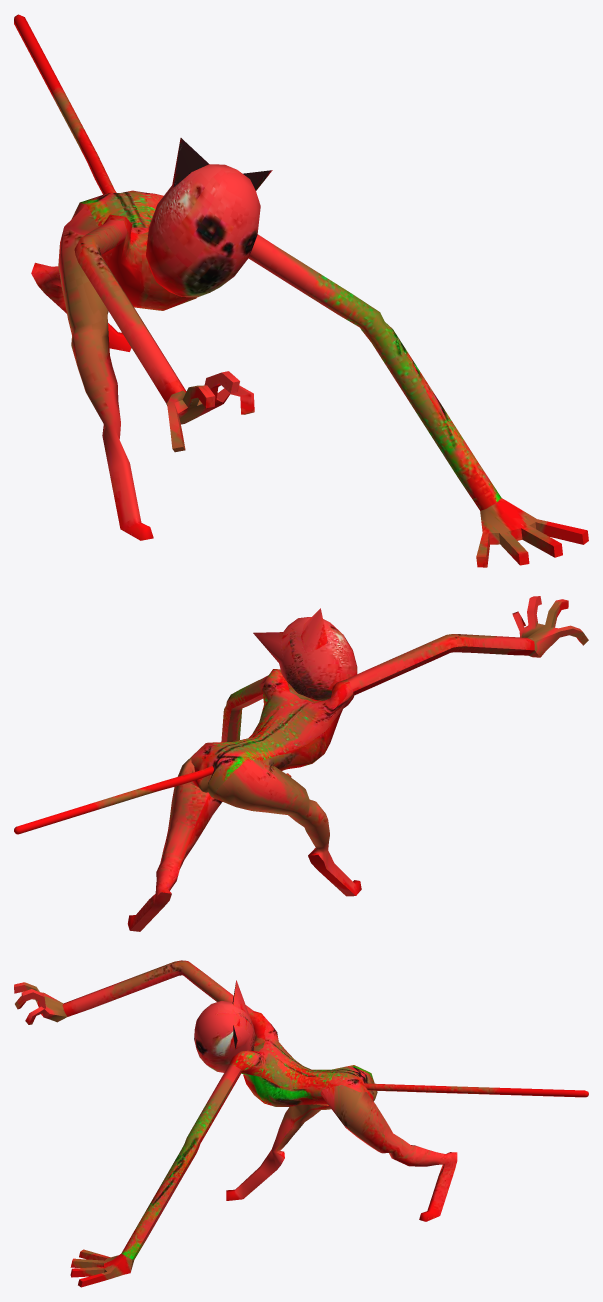
The model's file is SM_Monster_getting_out_2.fbx.
3 renders of one model, top to bottom at view 1: azimuth 30°, elevation 25°; view 2: azimuth 150°, elevation 25°; view 3: azimuth 270°, elevation 25°, orthographic. The views are drawn at different scales.
Parts seen in each view (by area): view 1: SM_Monster_getting_out_2; view 2: SM_Monster_getting_out_2; view 3: SM_Monster_getting_out_2.
Part boxes in pixels (bbox=[...]): SM_Monster_getting_out_2: bbox=[14, 14, 588, 567]; SM_Monster_getting_out_2: bbox=[14, 596, 588, 931]; SM_Monster_getting_out_2: bbox=[14, 960, 588, 1287].
Bounding box in the file's own units: 340 × 268 × 601.
